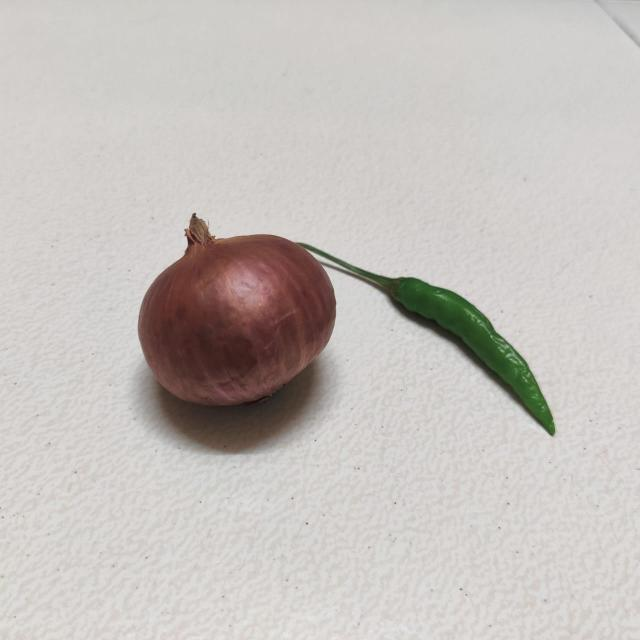Organik: (118, 192, 327, 430), (368, 247, 572, 440)
